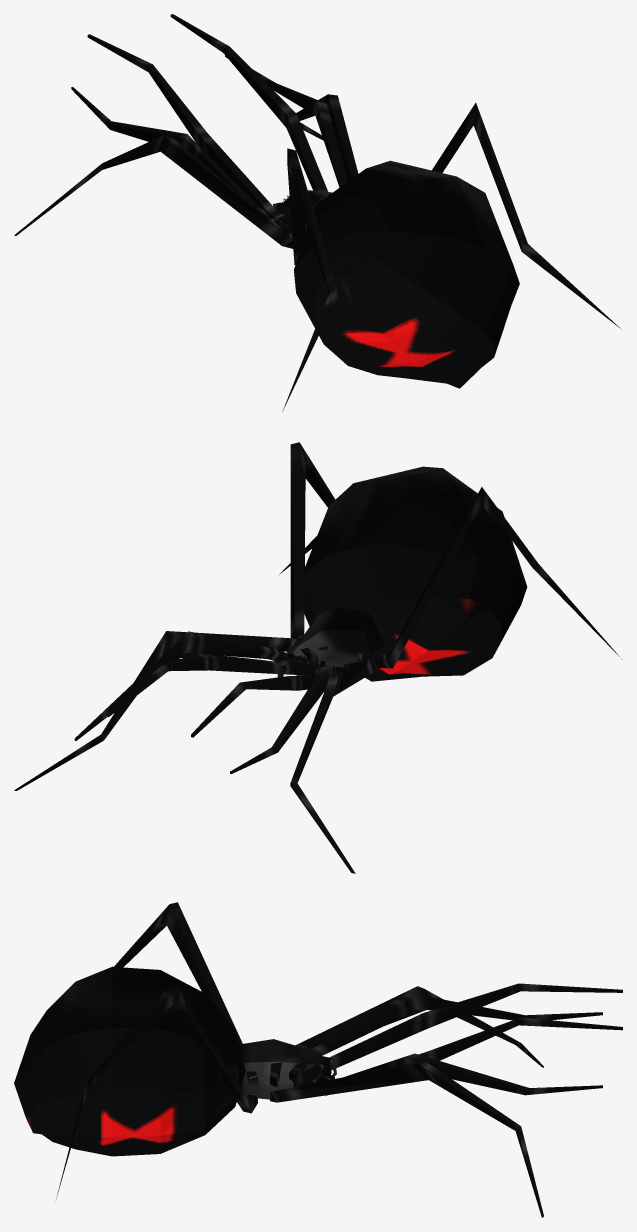
The model's file is blackwidow.glb.
The picture shows the model from 3 angles, top to bottom: view 1: azimuth 30°, elevation 25°; view 2: azimuth 150°, elevation 25°; view 3: azimuth 270°, elevation 25°; orthographic projection. The views are drawn at different scales.
Parts seen in each view (by area): view 1: body4, legs4; view 2: body4, legs4, head4; view 3: body4, legs4, head4.
Part boxes in pixels (x1,y1,x2,y2): body4: [294, 160, 519, 388]; legs4: [14, 14, 620, 411]; body4: [304, 466, 527, 681]; legs4: [14, 442, 622, 873]; head4: [284, 606, 385, 675]; body4: [14, 966, 245, 1156]; legs4: [56, 902, 622, 1217]; head4: [217, 1039, 331, 1099].
Size of the model in its own units: 3.86 by 2.31 by 6.46.
Materials: 1 (1 with a texture image).
